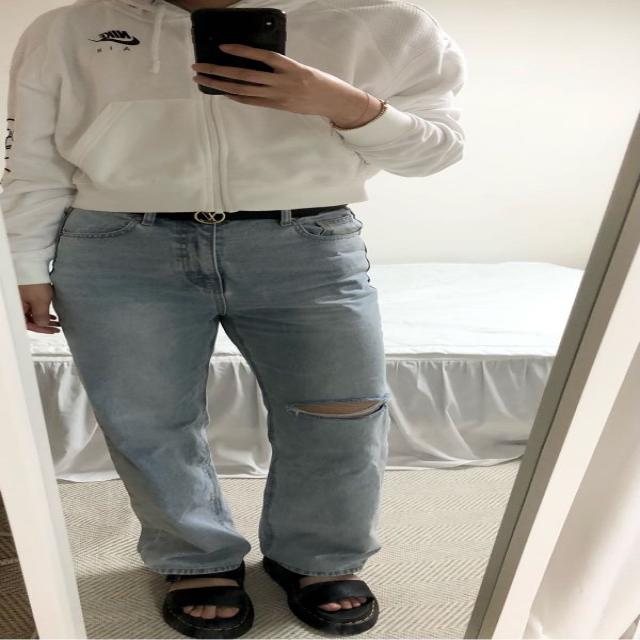denimpants: (57, 205, 382, 573)
zipup: (6, 0, 470, 287)
